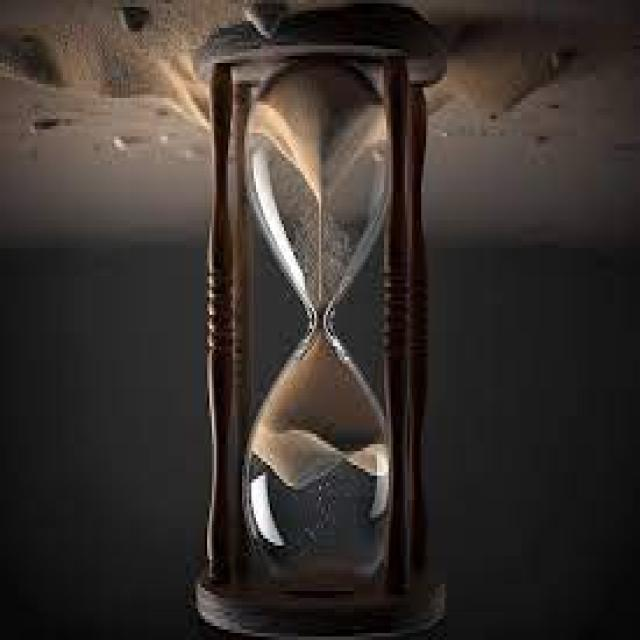clock: (185, 34, 441, 640)
